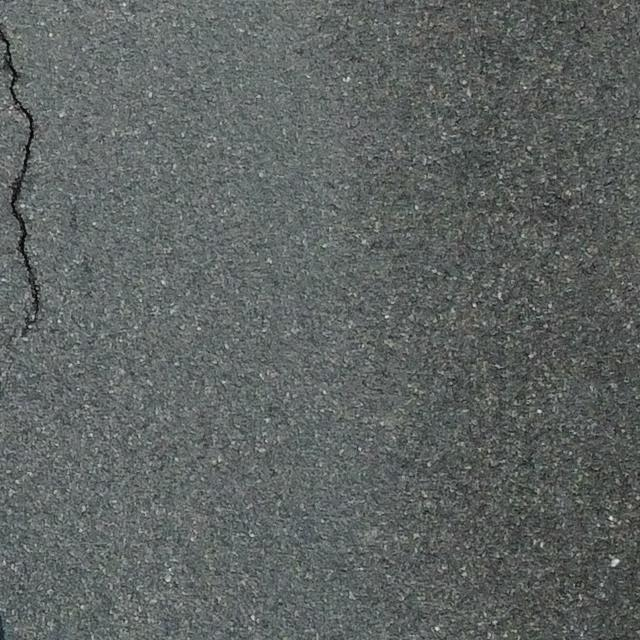LongitudinalCrack: (1, 27, 43, 336)
